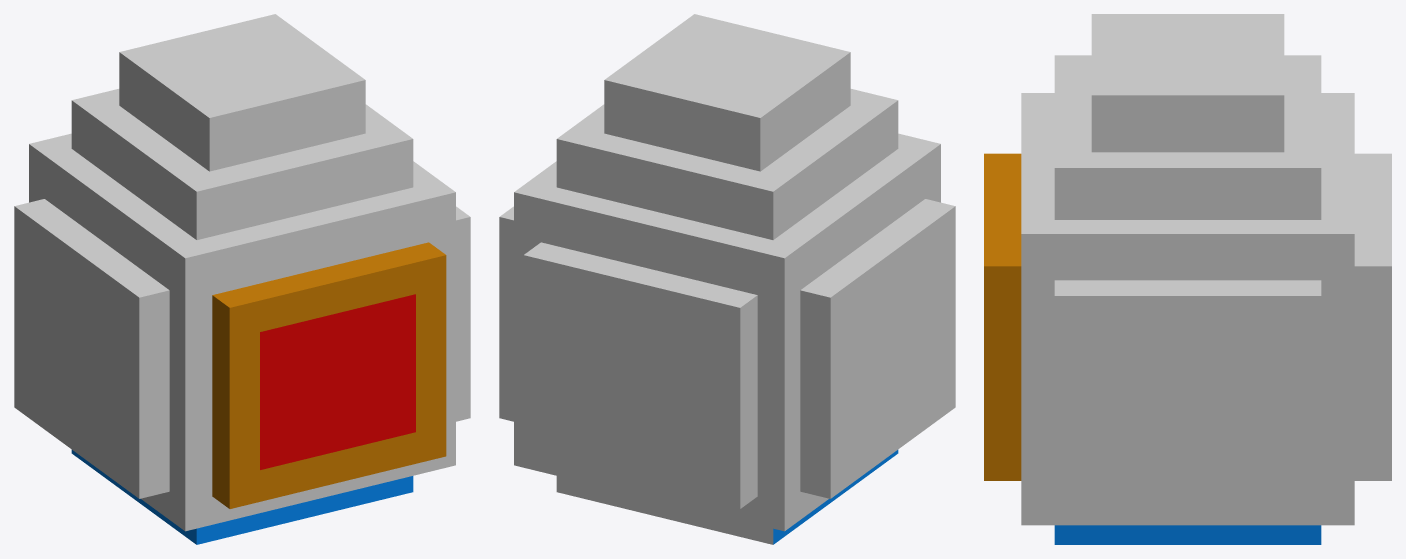
File: 26.Bombini Gussini.fbx
The picture shows the model from 3 angles, left to right: view 1: azimuth 30°, elevation 25°; view 2: azimuth 150°, elevation 25°; view 3: azimuth 270°, elevation 25°; orthographic projection. The views are drawn at different scales.
Parts seen in each view (by area): view 1: Bombini_Gussini; view 2: Bombini_Gussini; view 3: Bombini_Gussini.
Part boxes in pixels (<box>): Bombini_Gussini: <box>14,14,470,544</box>; Bombini_Gussini: <box>499,14,955,544</box>; Bombini_Gussini: <box>984,14,1391,544</box>.
Size of the model in its own units: 2.89 by 3.39 by 2.89.
